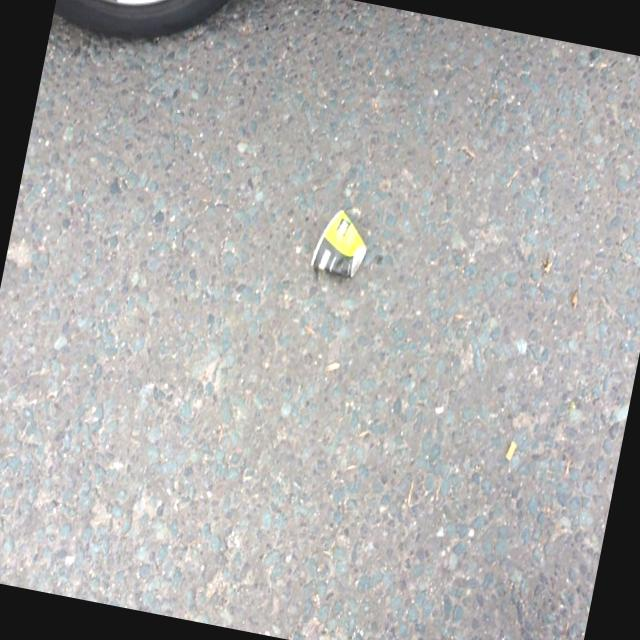Recycle: (308, 205, 374, 282)
